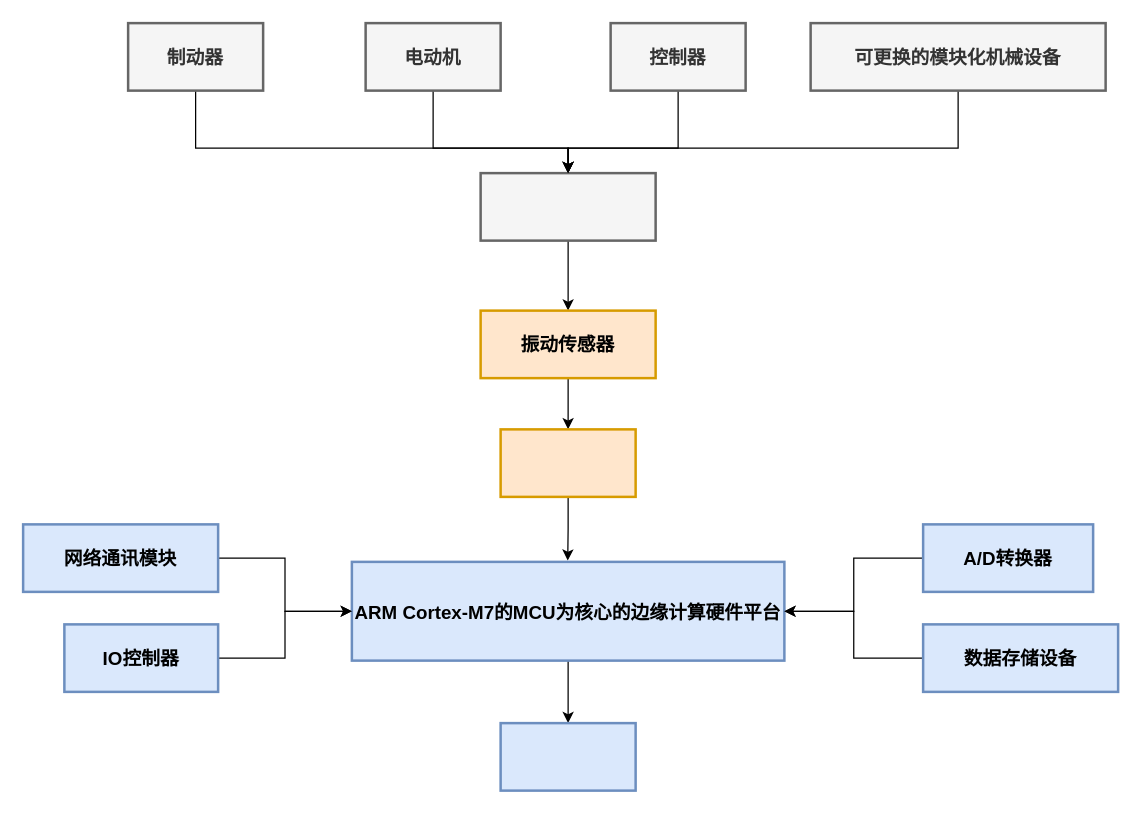
Some shapes in this 1140 by 813 pixel diagram are drawn without their labels. The centre of each missing label's shape, as x and y in pixels:
"上位机" belongs at (567,756).
"模拟试验台" belongs at (567,206).
"采集卡" belongs at (567,463).
